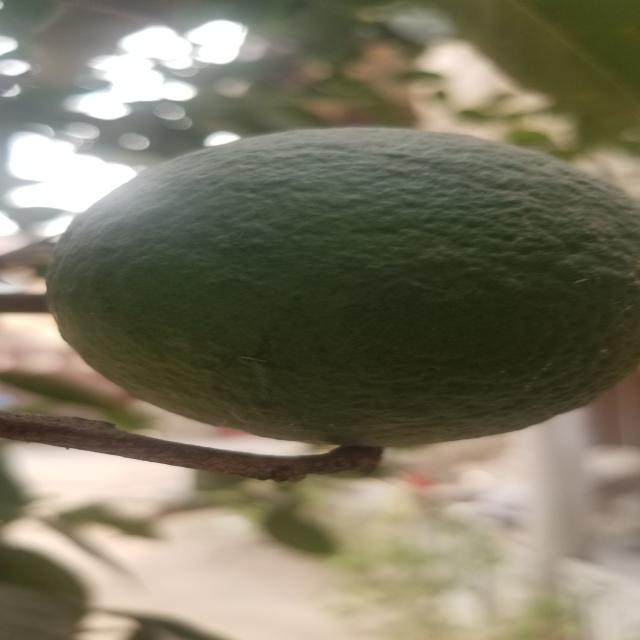Unripe: (49, 127, 640, 448)
